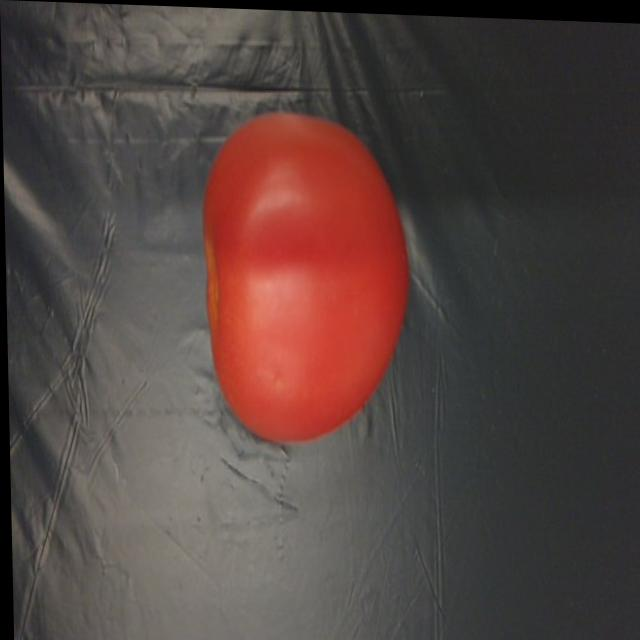kirmizi: (187, 93, 405, 461)
